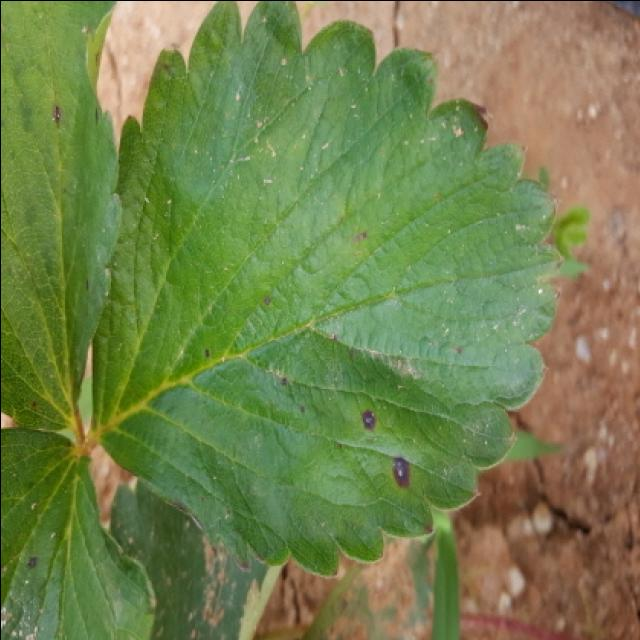Leaf Spot: (88, 2, 564, 577), (0, 2, 124, 440), (0, 426, 157, 640)
